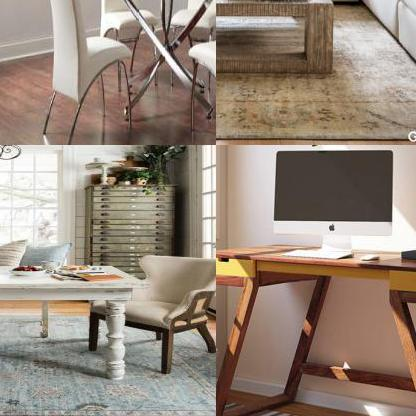table: (216, 238, 415, 415), (0, 261, 154, 383), (99, 0, 215, 126), (216, 0, 339, 83)
